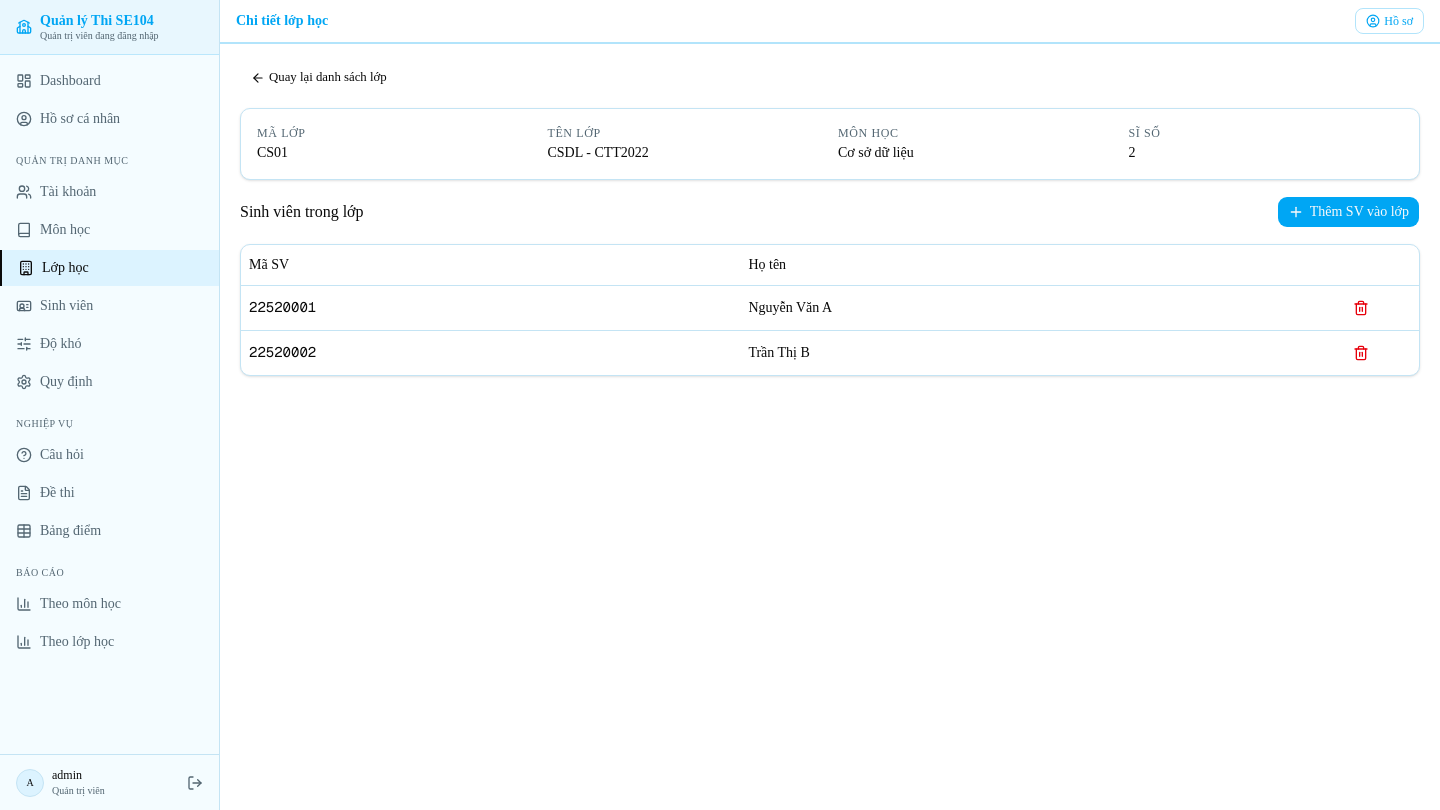
Test: ClassDetailPage › admin can add a student
The image size is (1440, 810).
Check: the text "CSDL - CTT2022" is shown, box [548,145,649,160]
Click the button "Thêm SV vào lớp": (1348, 212) [1277,196,1420,228]
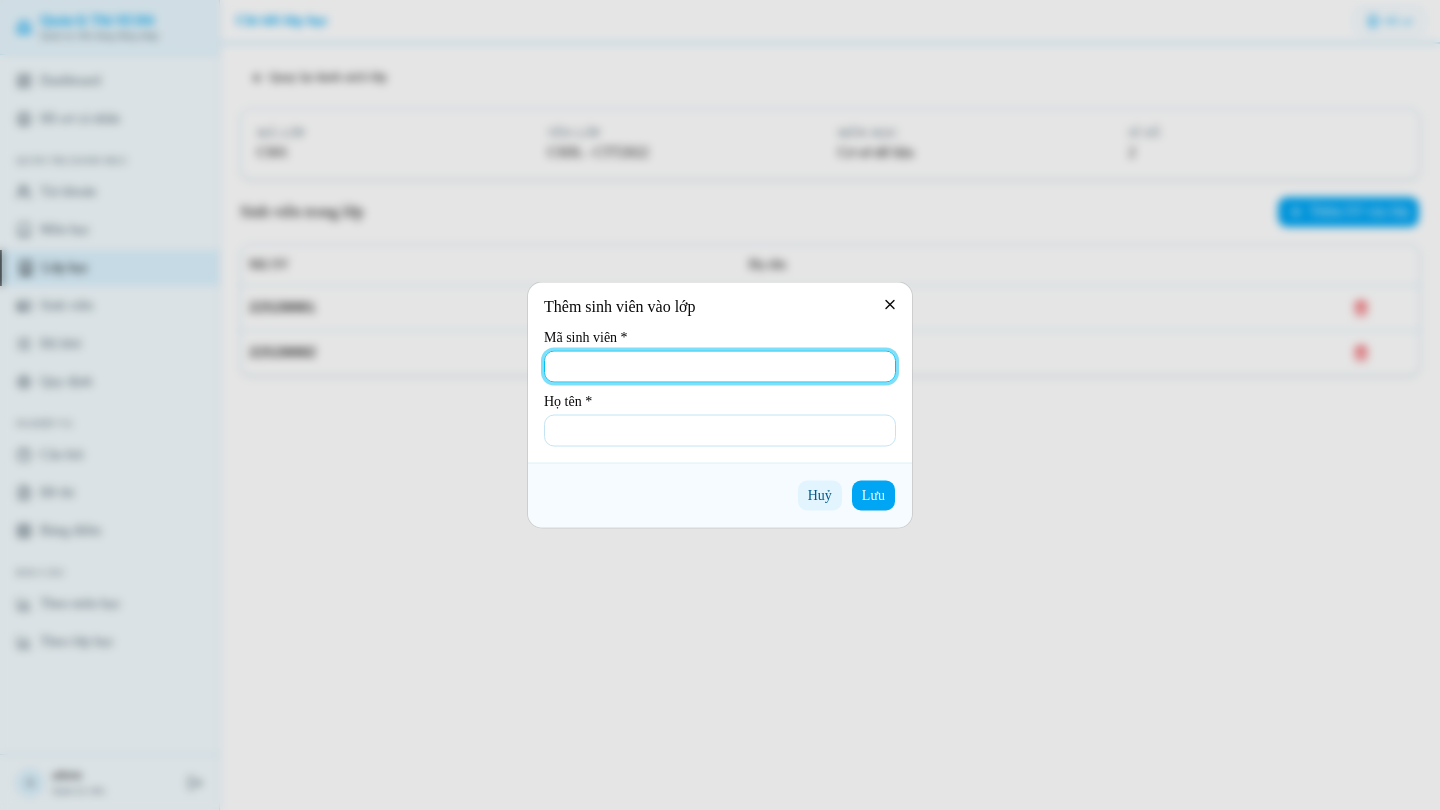
In the field labelled "Mã sinh viên *": (720, 366) [544,350,896,382], type "22599999"
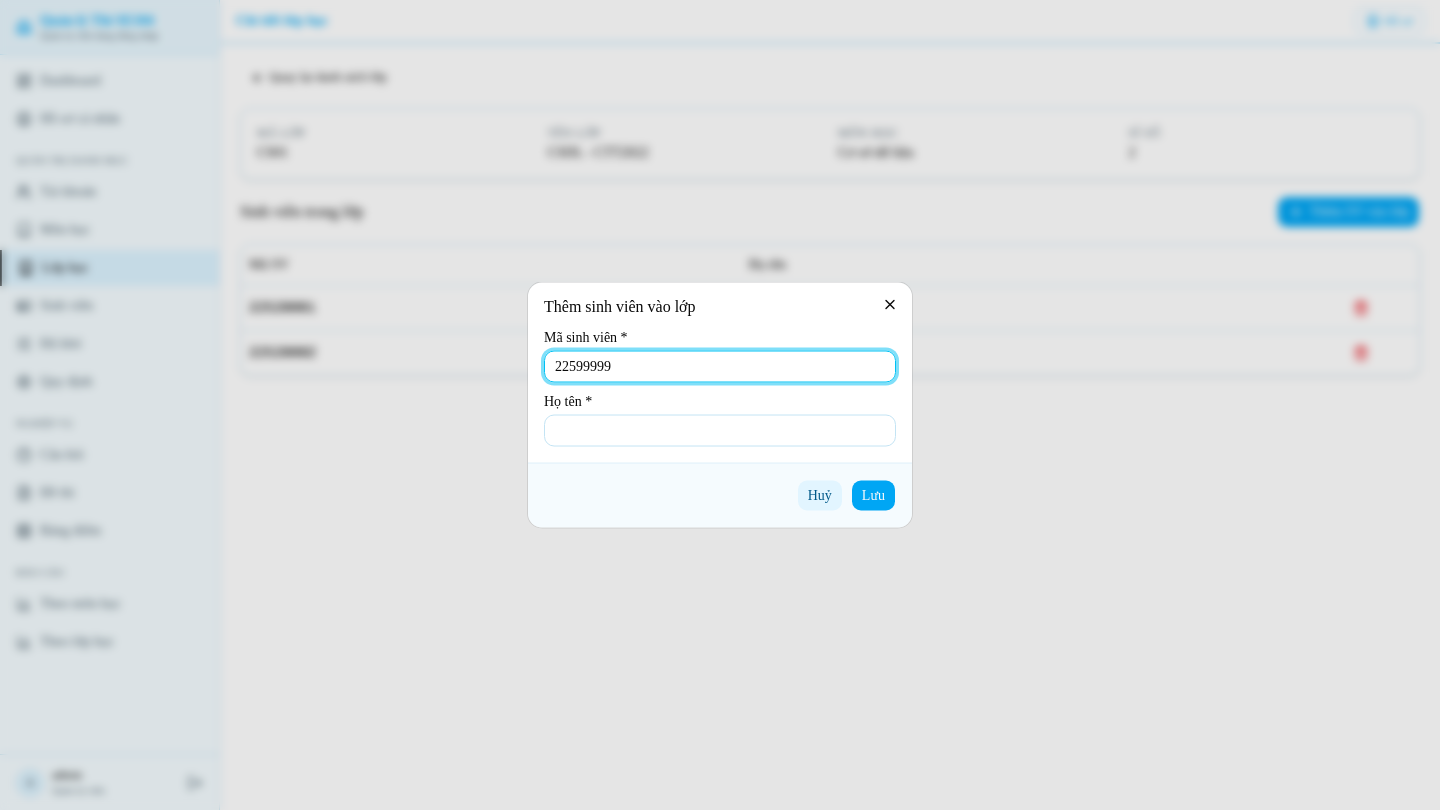
In the field labelled "Họ tên *": (720, 430) [544,414,896,446], type "SV mới"
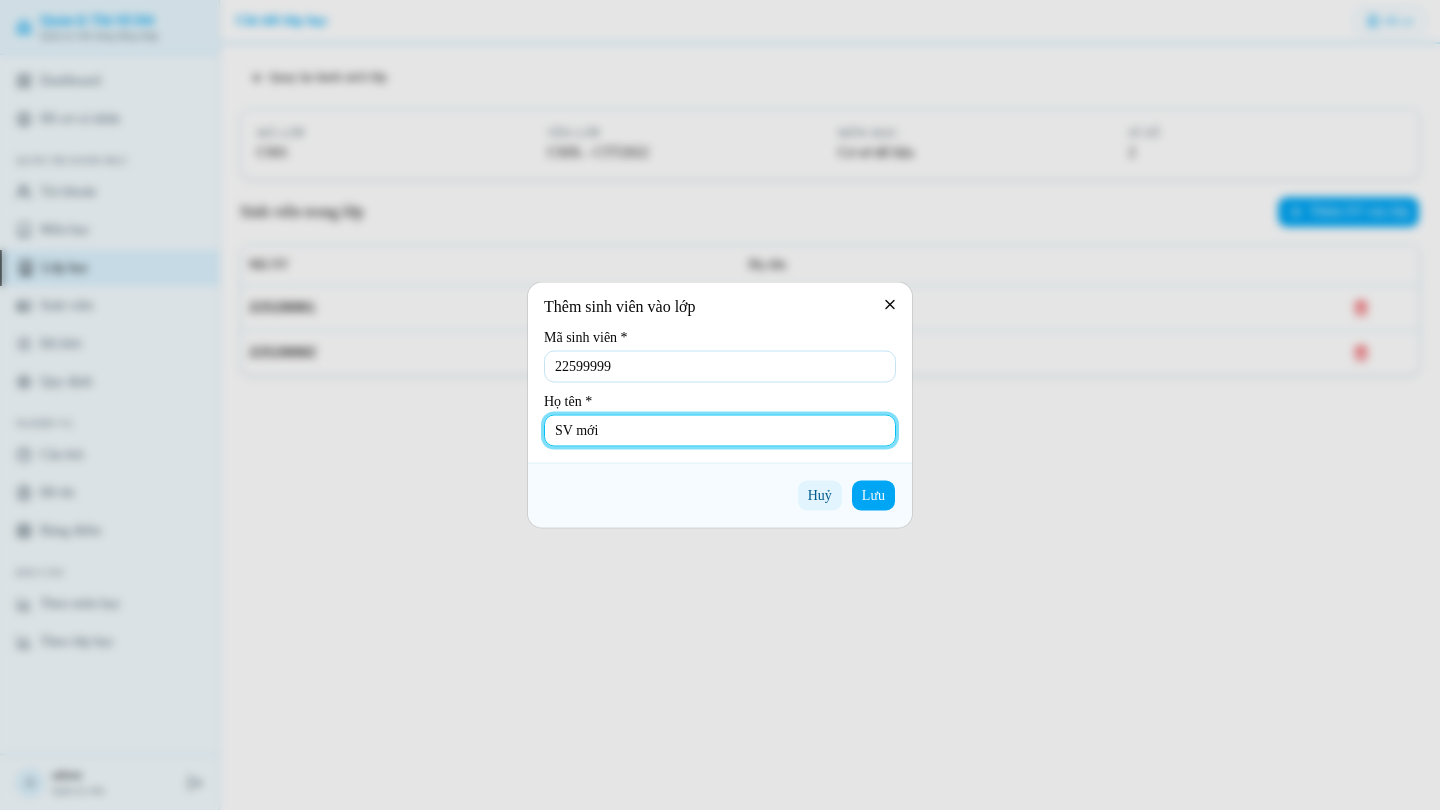
Click the button "Lưu": (873, 496) [851,480,896,512]
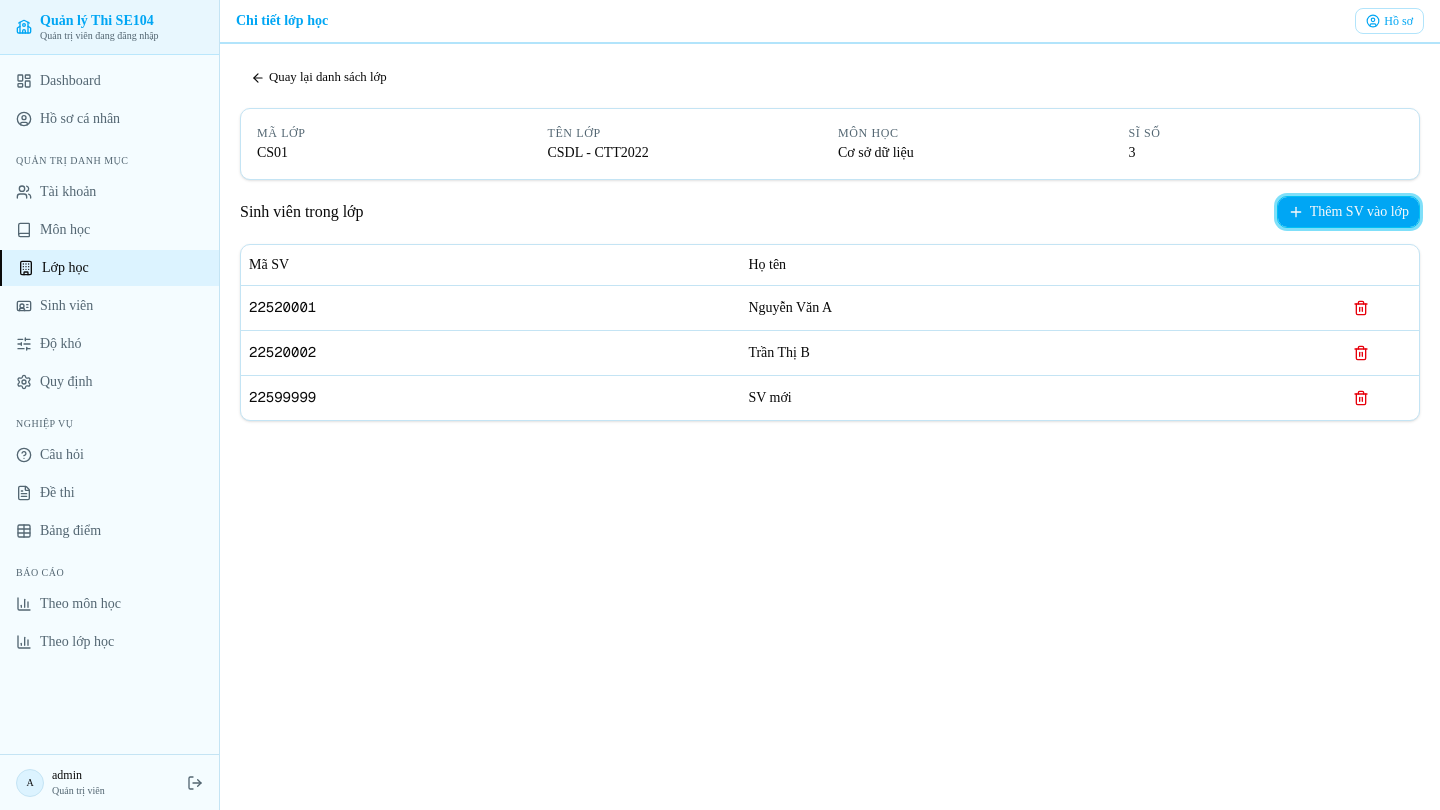
Check: the text "22599999" is shown, box [249,388,316,406]
